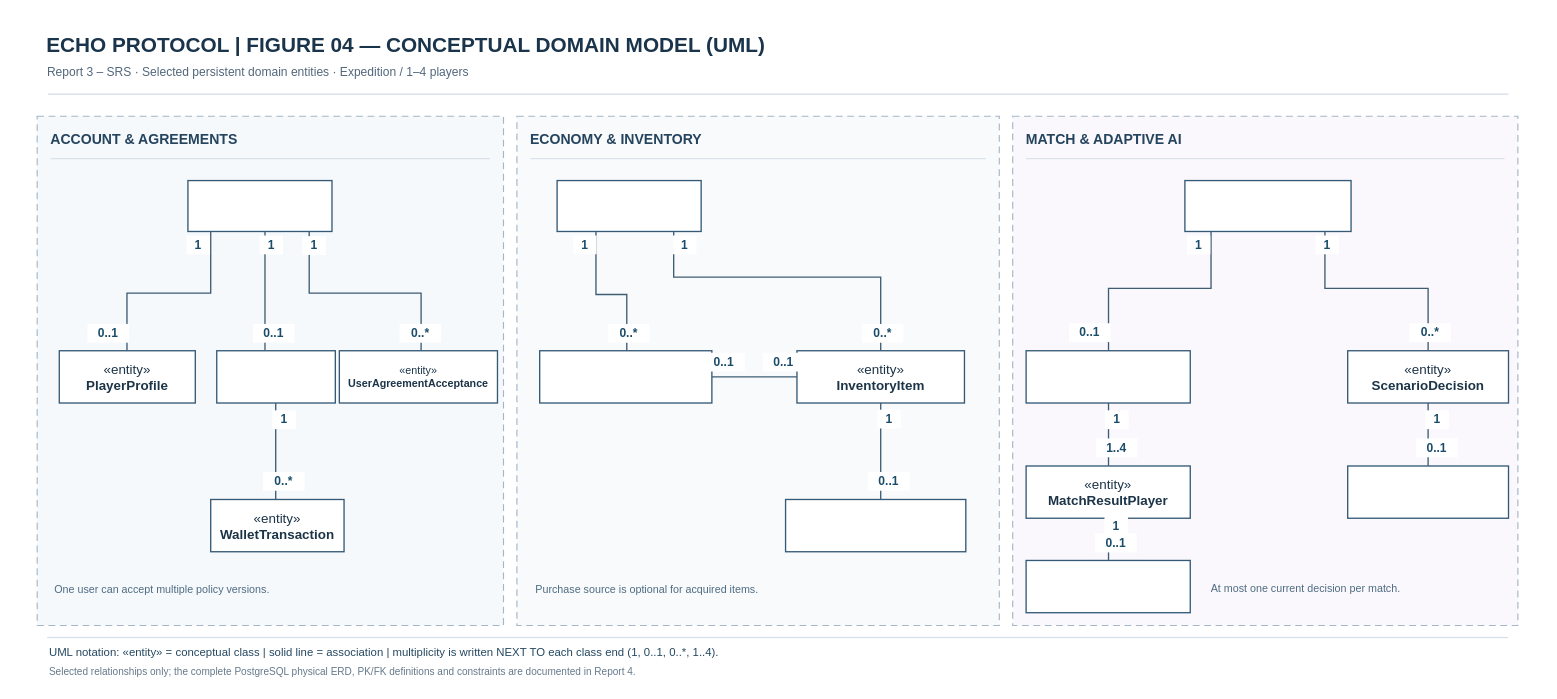
The diagram is 1557 pixels wide and 699 high, and some of its shapes have lost their labels. Here are the shapes that lost their labels. From the top down, the centre of each, then its label:
At point 259,206: "«entity» User".
At point 628,206: "«entity» ShopItem".
At point 1267,206: "«entity» Match".
At point 276,376: "«entity» Wallet".
At point 625,376: "«entity» PurchaseTransaction".
At point 1108,376: "«entity» MatchResult".
At point 1428,492: "«entity» ScenarioApplyReceipt".
At point 875,525: "«entity» PlayerLoadoutItem".
At point 1108,586: "«entity» MatchRewardGrant".
